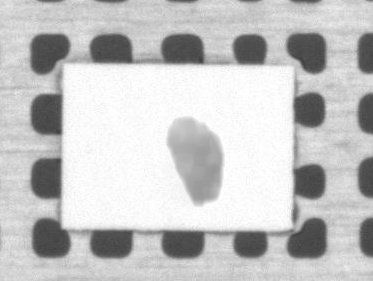DIE_INK: (202, 74, 316, 169)
